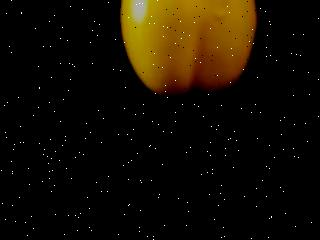Capsicum: (118, 0, 256, 99)
